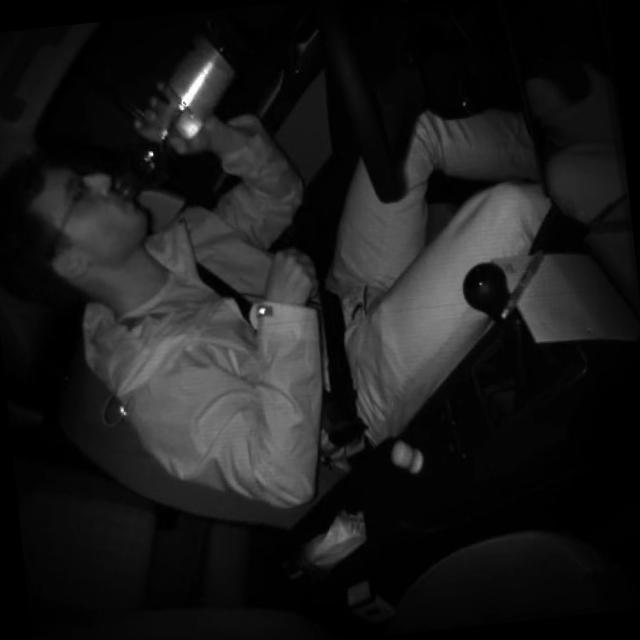pen: (494, 248, 550, 320)
